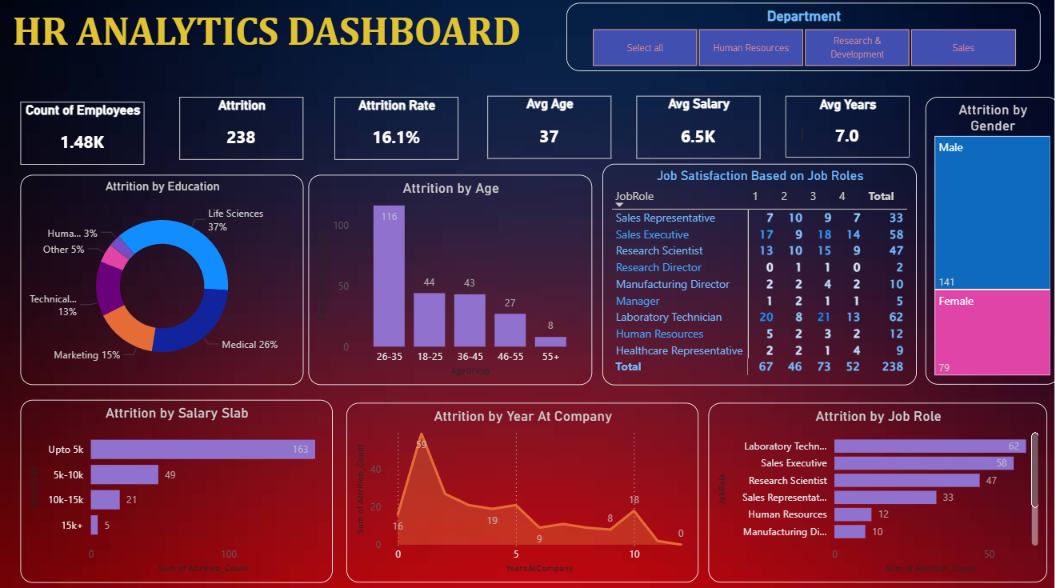

Layout of this report page (visuals, bound fields, positions):
{"tool":"powerbi","page":{"name":"Page 1","canvas":[1280,720],"ordinal":0},"visuals":[{"type":"cardVisual","title":"Avg Age","fields":{"Data":["Avg(HR_Analytics.Age)"]},"box":[589.9,119.4,149.6,76],"z":0},{"type":"cardVisual","title":"Attrition","fields":{"Data":["Sum(HR_Analytics.Attrition_Count)"]},"box":[218.4,120.6,149.6,76],"z":1000},{"type":"cardVisual","title":"Attrition Rate","fields":{"Data":["HR_Analytics.Attrition_Rate"]},"box":[405.4,120.6,149.6,76],"z":2000},{"type":"cardVisual","title":"Count of Employees","fields":{"Data":["CountNonNull(HR_Analytics.EmpID)"]},"box":[26.5,126.7,149.6,76],"z":3000},{"type":"cardVisual","title":"Avg Salary","fields":{"Data":["Avg(HR_Analytics.MonthlyIncome)"]},"box":[769.7,119.4,149.6,76],"z":4000},{"type":"cardVisual","title":"Avg Years","fields":{"Data":["Avg(HR_Analytics.YearsAtCompany)"]},"box":[949.5,119.4,149.6,74.8],"z":5000},{"type":"donutChart","title":"Attrition by Education","fields":{"Category":["HR_Analytics.EducationField"],"Y":["Sum(HR_Analytics.Attrition_Count)"]},"box":[26.5,214.7,341.4,253.4],"z":6000},{"type":"columnChart","title":"Attrition by Age","fields":{"Category":["HR_Analytics.AgeGroup"],"Y":["Sum(HR_Analytics.Attrition_Count)"]},"box":[374,214.7,342.6,253.4],"z":7000},{"type":"pivotTable","title":"Job Satisfaction Based on Job Roles","fields":{"Rows":["HR_Analytics.JobRole"],"Columns":["HR_Analytics.JobSatisfaction"],"Values":["Sum(HR_Analytics.Attrition_Count)"]},"box":[729.2,201.2,379.6,266.8],"z":8000},{"type":"barChart","title":"Attrition by Salary Slab","fields":{"Category":["HR_Analytics.SalarySlab"],"Y":["Sum(HR_Analytics.Attrition_Count)"]},"box":[26.5,486.2,376.4,220.8],"z":9000},{"type":"barChart","title":"Attrition by Job Role","fields":{"Y":["Sum(HR_Analytics.Attrition_Count)"],"Category":["HR_Analytics.JobRole"]},"box":[856.6,489.8,409,217.2],"z":10000},{"type":"areaChart","title":"Attrition by Year At Company","fields":{"Category":["HR_Analytics.YearsAtCompany"],"Y":["Sum(HR_Analytics.Attrition_Count)"]},"box":[419.8,489.8,424.7,217.2],"z":11000},{"type":"treemap","title":"Attrition by Gender","fields":{"Values":["Sum(HR_Analytics.Attrition_Count)"],"Group":["HR_Analytics.Gender"]},"box":[1118.4,120.6,161.7,347.5],"z":12000},{"type":"slicer","title":"Department","fields":{"Values":["HR_Analytics.Department"]},"box":[685.3,7.2,571.9,82],"z":13000},{"type":"textbox","box":[12.1,7.2,673.2,100.1],"z":14000}]}

Visuals, with their boxes in screenshot pixels (x1, y1, x2, y2), scaled from the page's 1280x720 canvas onto the 1055x588 screenshot:
"Avg Age" cardVisual: x1=486, y1=98, x2=610, y2=160
"Attrition" cardVisual: x1=180, y1=98, x2=303, y2=161
"Attrition Rate" cardVisual: x1=334, y1=98, x2=457, y2=161
"Count of Employees" cardVisual: x1=22, y1=103, x2=145, y2=166
"Avg Salary" cardVisual: x1=634, y1=98, x2=758, y2=160
"Avg Years" cardVisual: x1=783, y1=98, x2=906, y2=159
"Attrition by Education" donutChart: x1=22, y1=175, x2=303, y2=382
"Attrition by Age" columnChart: x1=308, y1=175, x2=591, y2=382
"Job Satisfaction Based on Job Roles" pivotTable: x1=601, y1=164, x2=914, y2=382
"Attrition by Salary Slab" barChart: x1=22, y1=397, x2=332, y2=577
"Attrition by Job Role" barChart: x1=706, y1=400, x2=1043, y2=577
"Attrition by Year At Company" areaChart: x1=346, y1=400, x2=696, y2=577
"Attrition by Gender" treemap: x1=922, y1=98, x2=1054, y2=382
"Department" slicer: x1=565, y1=6, x2=1036, y2=73
textbox: x1=10, y1=6, x2=565, y2=88
